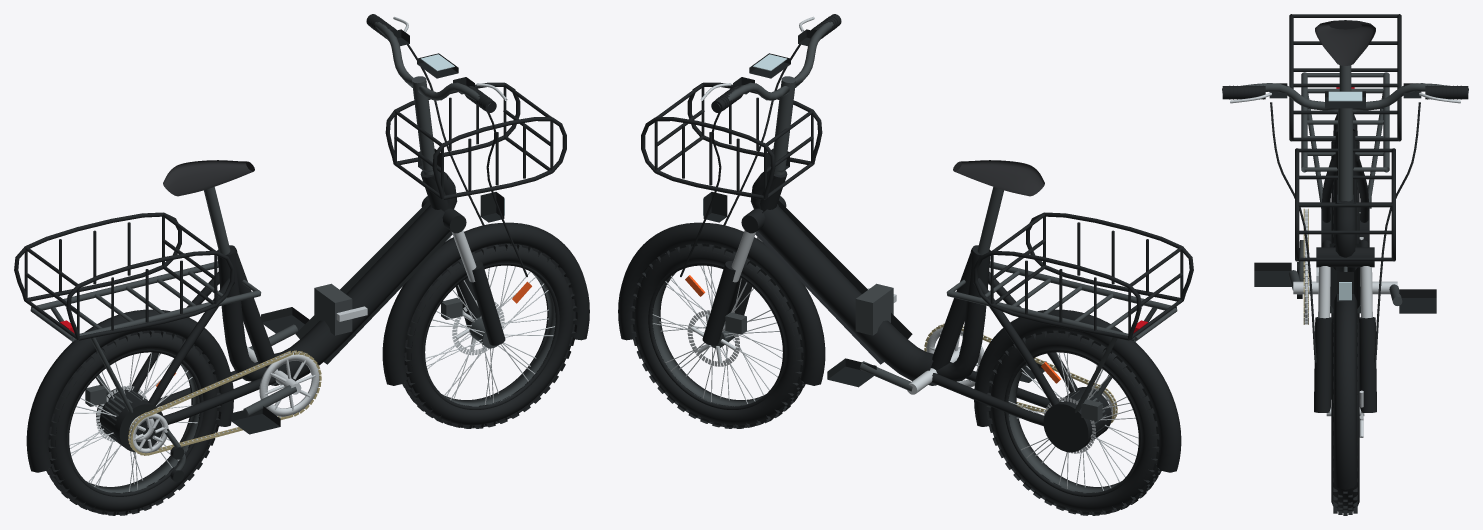
File: lectric-xp-2-0.glb
The picture shows the model from 3 angles, left to right: view 1: azimuth 30°, elevation 25°; view 2: azimuth 150°, elevation 25°; view 3: azimuth 270°, elevation 25°; orthographic projection. The views are drawn at different scales.
Parts seen in each view (by area): view 1: Bodywork | black, FrontWheel | rubber, RearWheel | rubber, Chassis | black, BatteryMount | black, Bodywork | graphite, Drive | steel, FrontWheel | steel, Cockpit | graphite, Fork | black, FrontWheel | graphite, Chassis | graphite (+11 smaller); view 2: Bodywork | black, FrontWheel | rubber, RearWheel | rubber, Chassis | black, BatteryMount | black, Bodywork | graphite, FrontWheel | steel, MotorMount | black, Cockpit | graphite, Chassis | graphite, Fork | black, Bodywork | seat (+10 smaller); view 3: Bodywork | black, Fork | black, Bodywork | graphite, Cockpit | graphite, Chassis | black, Cockpit | rubber, Bodywork | seat, Drive | black, FrontWheel | rubber, Fork | steel, Cockpit | black, Drive | steel (+8 smaller).
Part boxes in pixels (<box>): Bodywork | black: <box>14,82,589,472</box>; FrontWheel | rubber: <box>402,243,577,428</box>; RearWheel | rubber: <box>46,330,221,515</box>; Chassis | black: <box>131,165,457,424</box>; BatteryMount | black: <box>271,200,452,385</box>; Bodywork | graphite: <box>30,261,261,412</box>; Drive | steel: <box>129,346,319,453</box>; FrontWheel | steel: <box>425,265,554,404</box>; Cockpit | graphite: <box>374,22,490,175</box>; Fork | black: <box>421,196,505,345</box>; FrontWheel | graphite: <box>441,273,555,406</box>; Chassis | graphite: <box>204,187,352,335</box>; Bodywork | black: <box>618,82,1193,472</box>; FrontWheel | rubber: <box>630,243,805,428</box>; RearWheel | rubber: <box>986,330,1161,515</box>; Chassis | black: <box>750,165,1077,425</box>; BatteryMount | black: <box>755,200,936,385</box>; Bodywork | graphite: <box>946,261,1177,412</box>; FrontWheel | steel: <box>652,265,782,403</box>; MotorMount | black: <box>1043,387,1111,452</box>; Cockpit | graphite: <box>717,22,833,175</box>; Chassis | graphite: <box>855,187,1003,335</box>; Fork | black: <box>702,196,786,345</box>; Bodywork | seat: <box>953,160,1044,196</box>; Bodywork | black: <box>1289,14,1401,489</box>; Fork | black: <box>1314,247,1376,412</box>; Bodywork | graphite: <box>1301,72,1389,271</box>; Cockpit | graphite: <box>1222,83,1468,201</box>; Chassis | black: <box>1322,129,1368,271</box>; Cockpit | rubber: <box>1222,86,1468,362</box>; Bodywork | seat: <box>1315,20,1375,65</box>; Drive | black: <box>1254,262,1436,313</box>; FrontWheel | rubber: <box>1331,310,1359,515</box>; Fork | steel: <box>1318,266,1372,318</box>; Cockpit | black: <box>1229,83,1461,202</box>; Drive | steel: <box>1293,209,1397,324</box>.
Size of the model in its own units: 1.8 by 1.16 by 0.6634.
